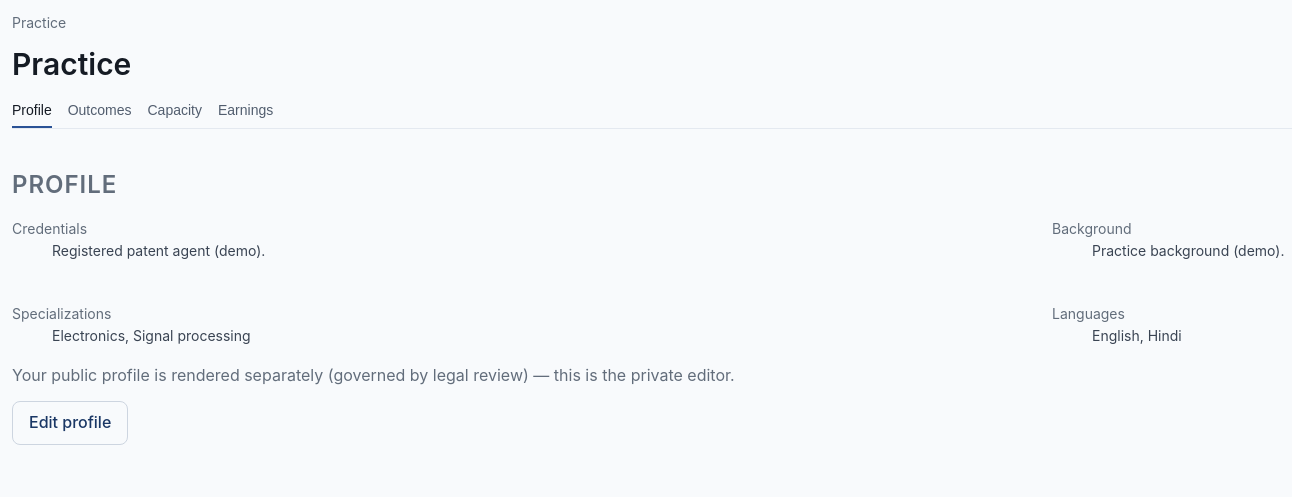
SC-A09–A12 practice › published outcomes (n≥20) show the sample size and an L3 publication gate, confidence as a slot
Click the button "Outcomes" at (100, 111), box x1=68 y1=94 x2=132 y2=128
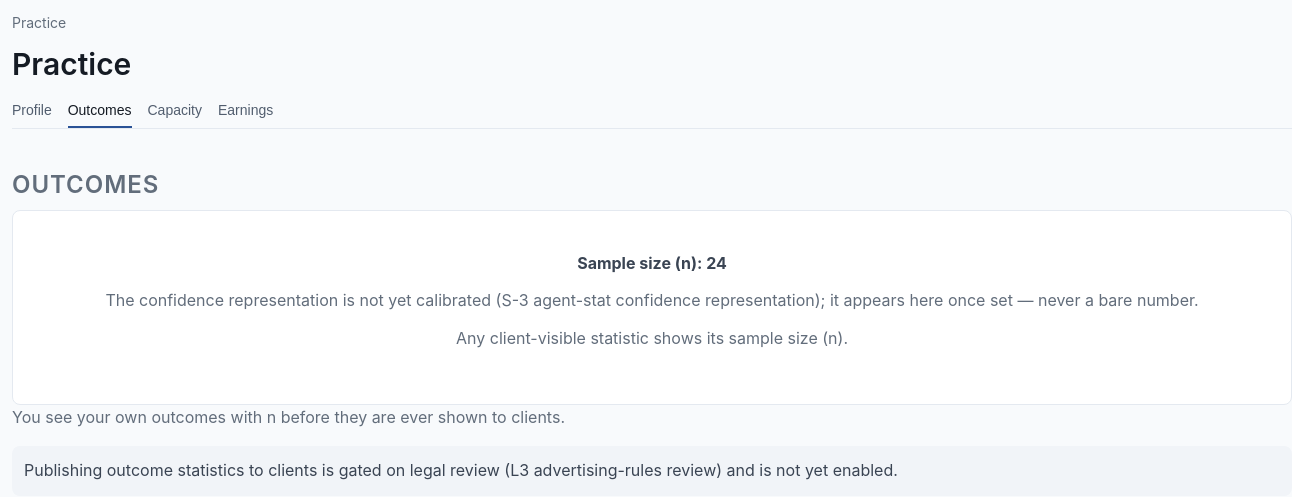
Expected: the text "Sample size (n): 24" is shown, x1=577 y1=253 x2=727 y2=273
Expected: the text "gated on legal review" is shown, x1=24 y1=460 x2=898 y2=480
Expected: the text "not yet calibrated" is shown, x1=105 y1=290 x2=501 y2=310
